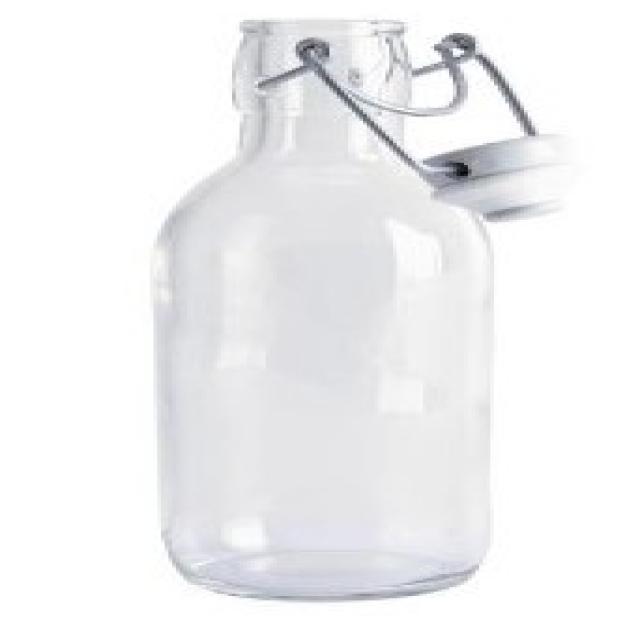electronic: (160, 21, 562, 602)
